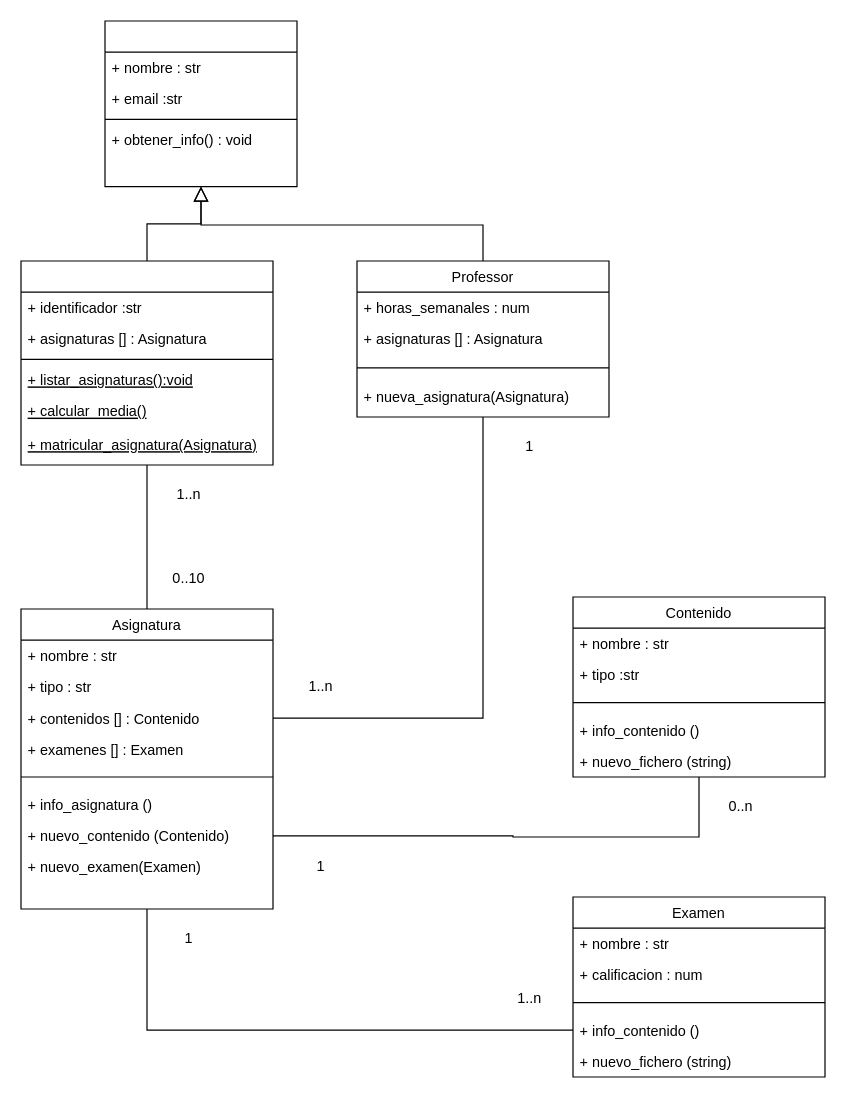
This 846x1102 diagram has some shape labels left out. Each missing label, with the box of its shape:
Estudiante: (20, 260, 273, 465)
Person: (104, 20, 297, 187)
